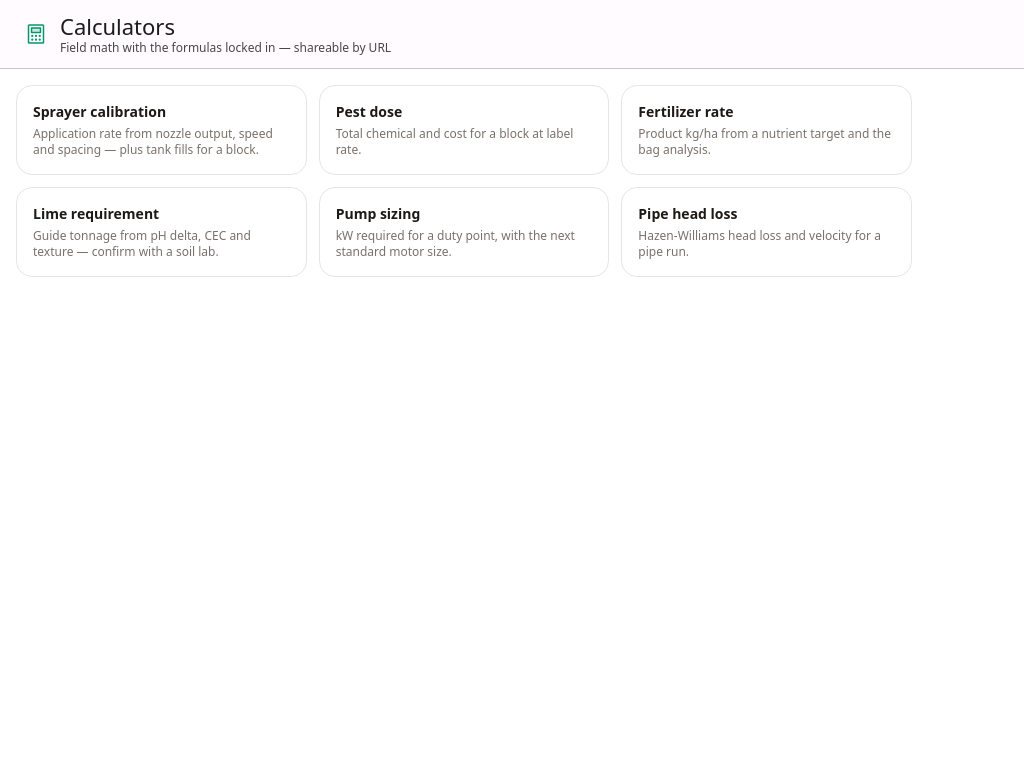
Test: CalculatorsPage › opens a calc, computes, and renders the result card with breakdown
Click the button with test id "tile-sprayer" at (161, 130), box [16,85,307,175]
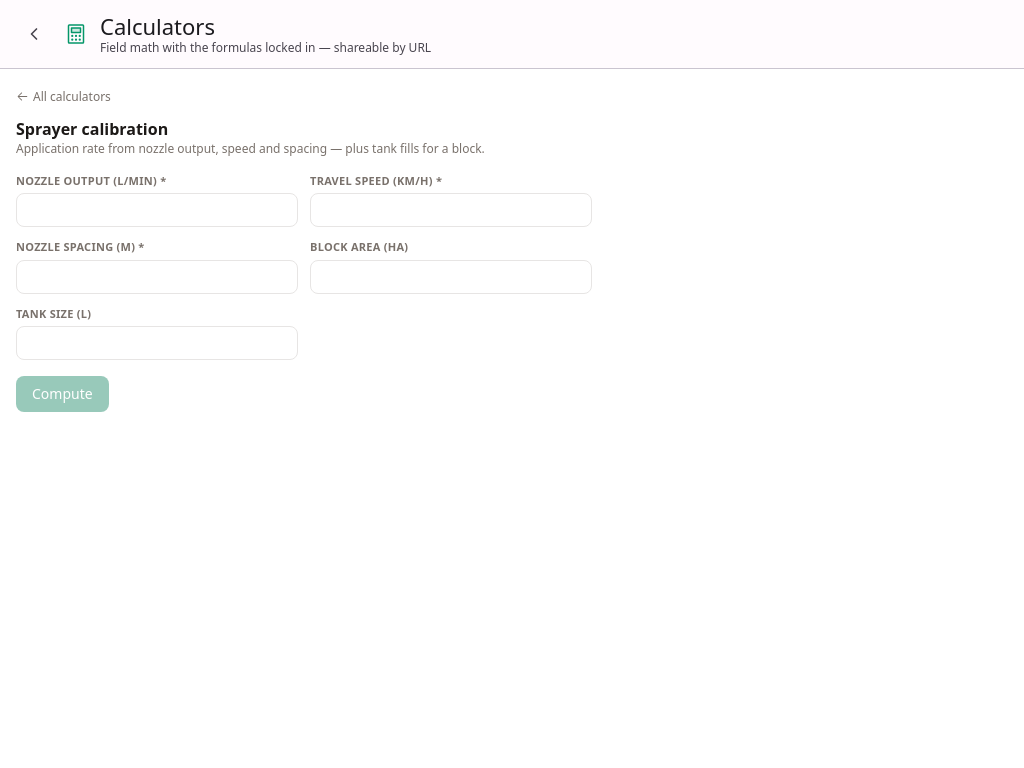
Type "1.2" into the number field labelled "Nozzle output (L/min) *" at (157, 210), box [16,193,298,227]
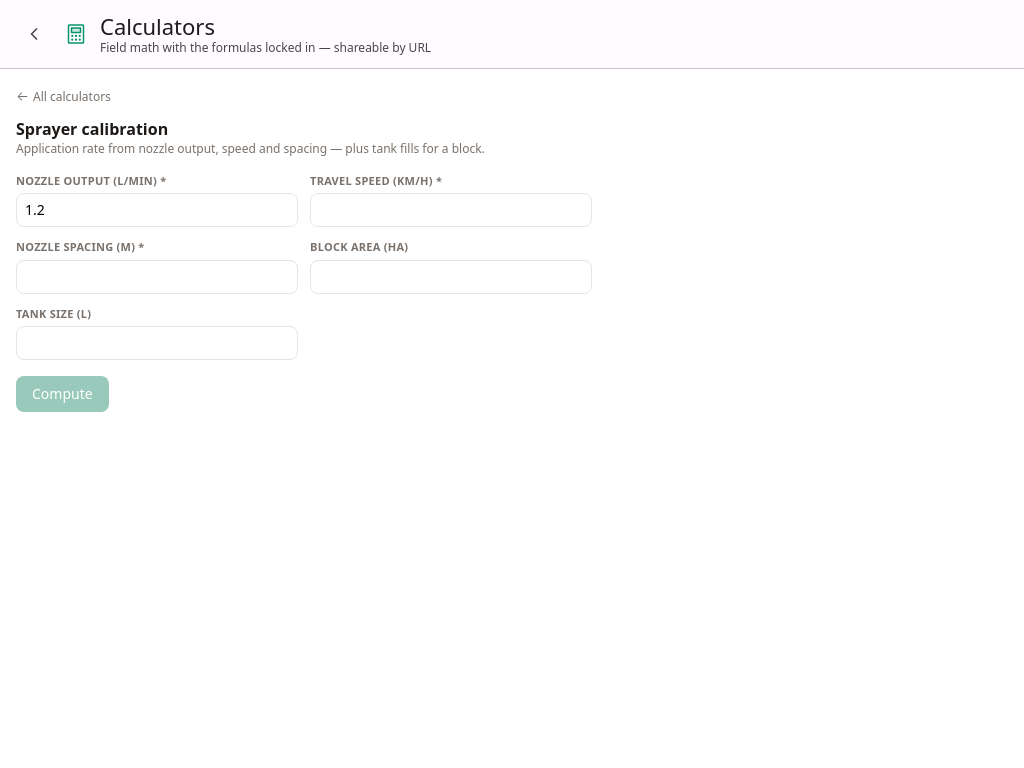
Type "8" into the number field labelled "Travel speed (km/h) *" at (451, 210), box [310,193,592,227]
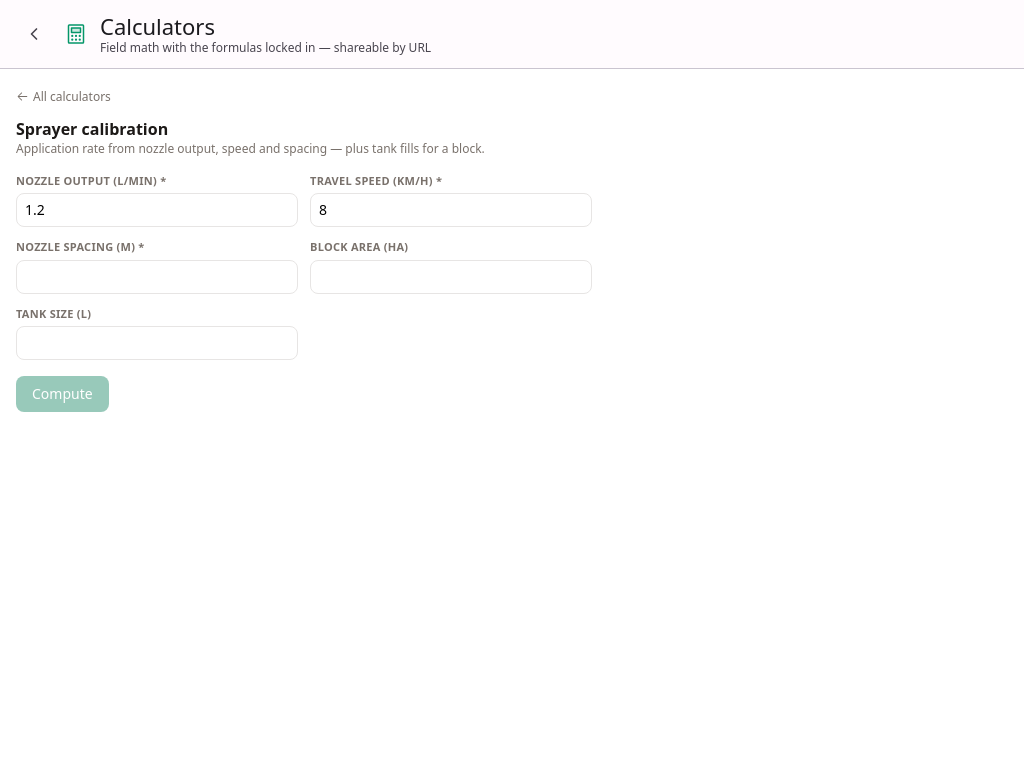
Type "0.5" into the number field labelled "Nozzle spacing (m) *" at (157, 276), box [16,260,298,294]
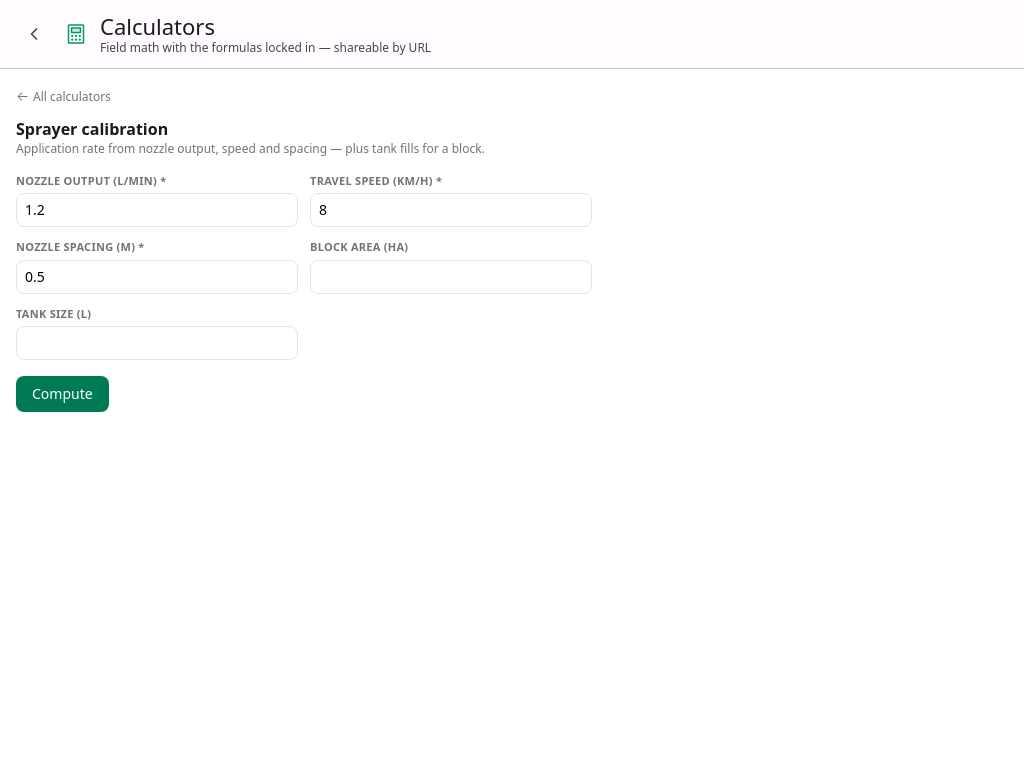
Click the button "Compute" at (62, 394), box [16,376,109,412]
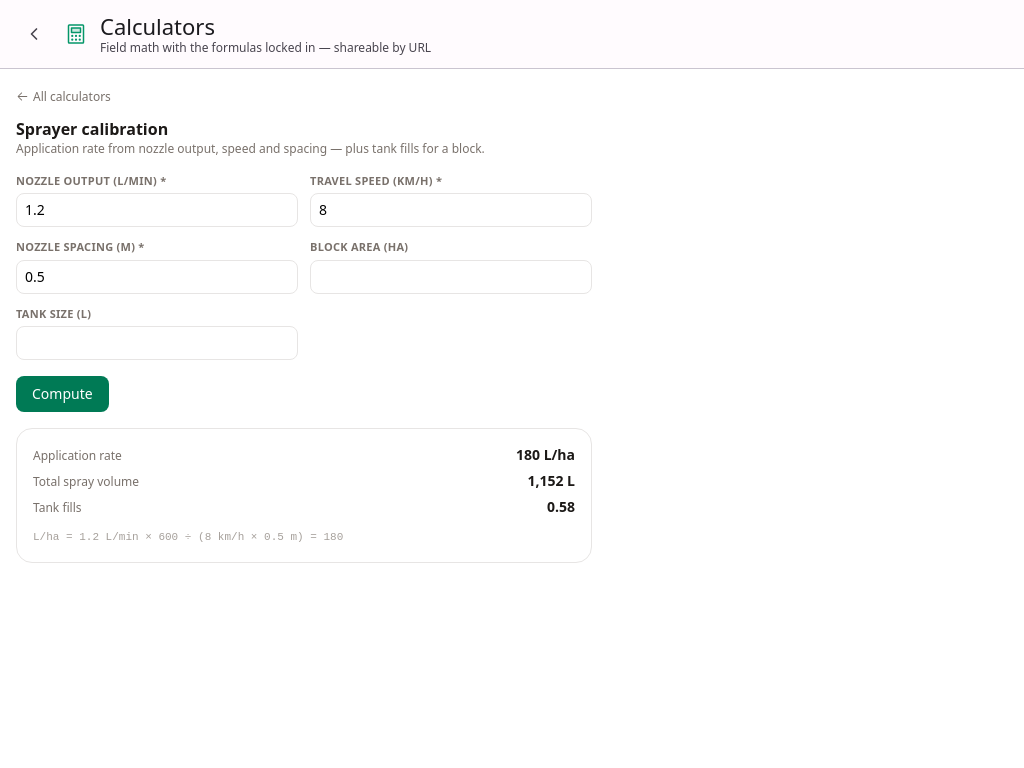
Expected: the element with test id "calc-result" is shown, [16,428,592,562]
Expected: the text "180 L/ha" is shown, [516,445,575,465]
Expected: the text "L/ha = 1.2 L/min × 600 ÷ (8 km/h × 0.5 m) = 180" is shown, [33,531,343,543]
